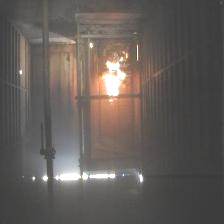fire: (92, 47, 135, 110)
